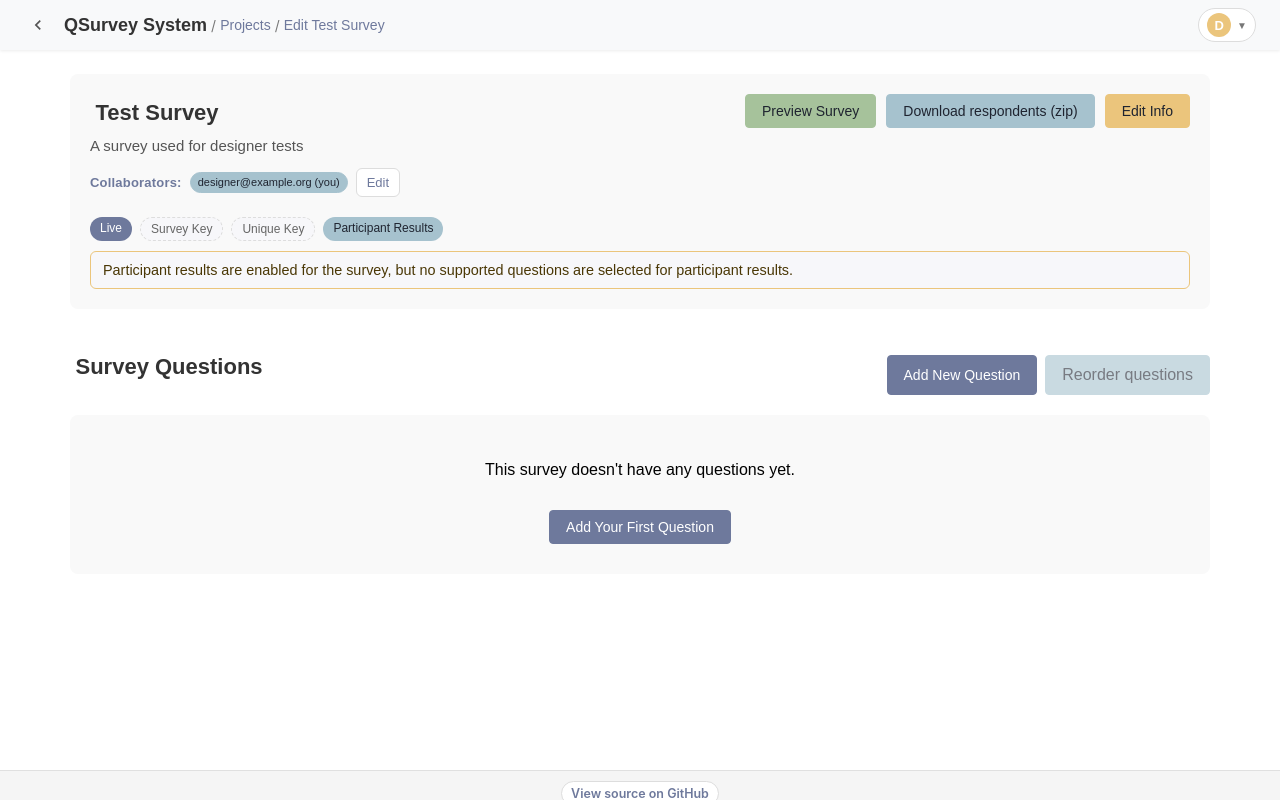
Test case: SurveyEdit designer workflows › disables collaborator save while a save is in flight to prevent duplicate submissions
Expected: the text "Collaborators:" is shown, 90,175 -> 182,190
Click the button with aria-label "edit collaborators".
click(378, 182)  # box 356,168 -> 400,197
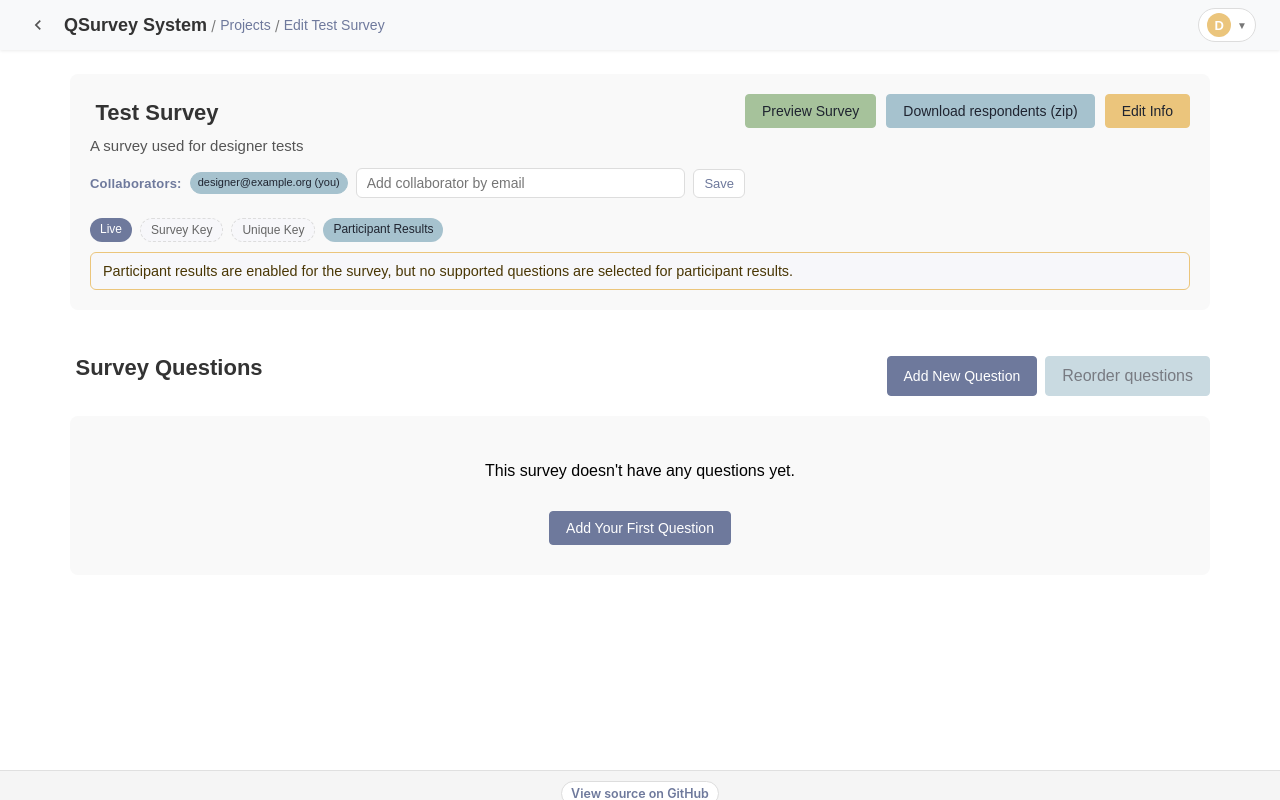
Expected: the button with aria-label "edit collaborators" reads "Save"
Click the button with aria-label "edit collaborators".
click(719, 183)  # box 693,168 -> 745,198
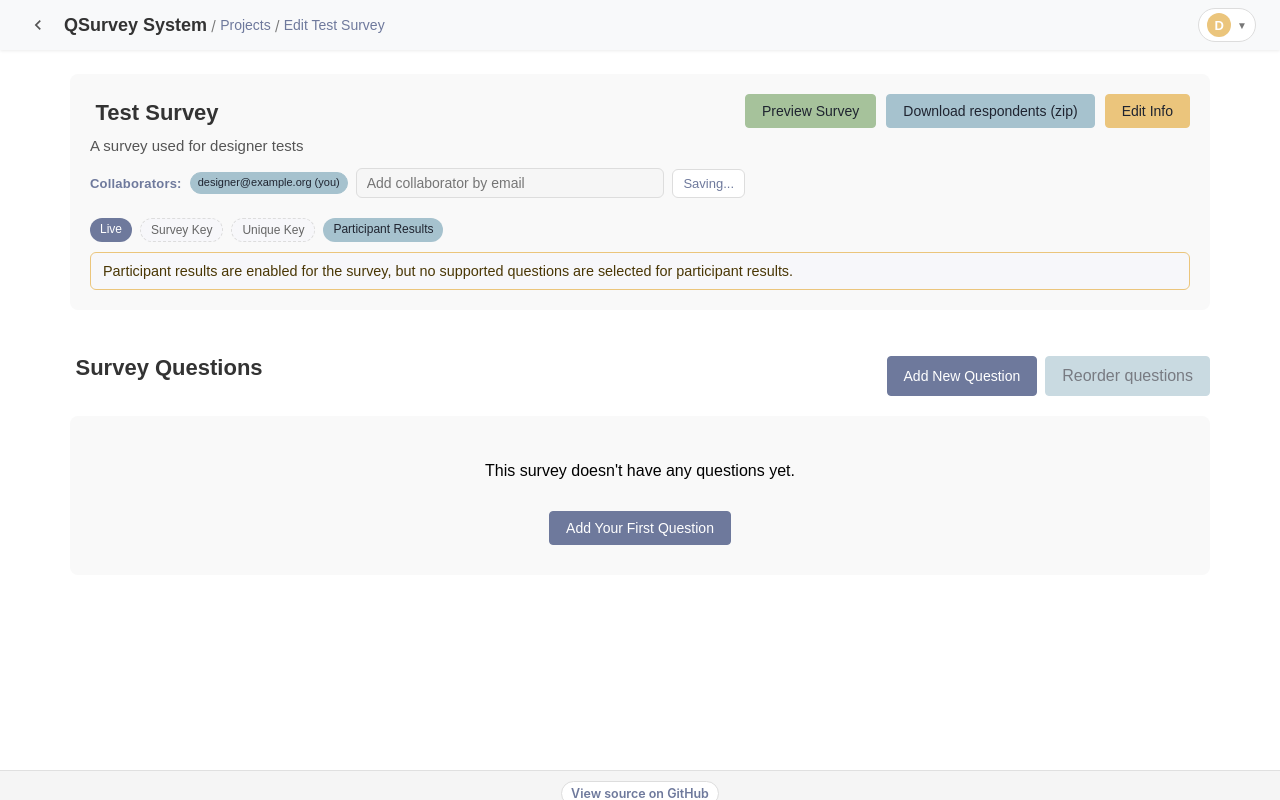
Expected: the button with aria-label "edit collaborators" is disabled
Note: Attempt a second click while saving should not trigger another request
Click the button with aria-label "edit collaborators".
click(709, 183)  # box 672,168 -> 745,198
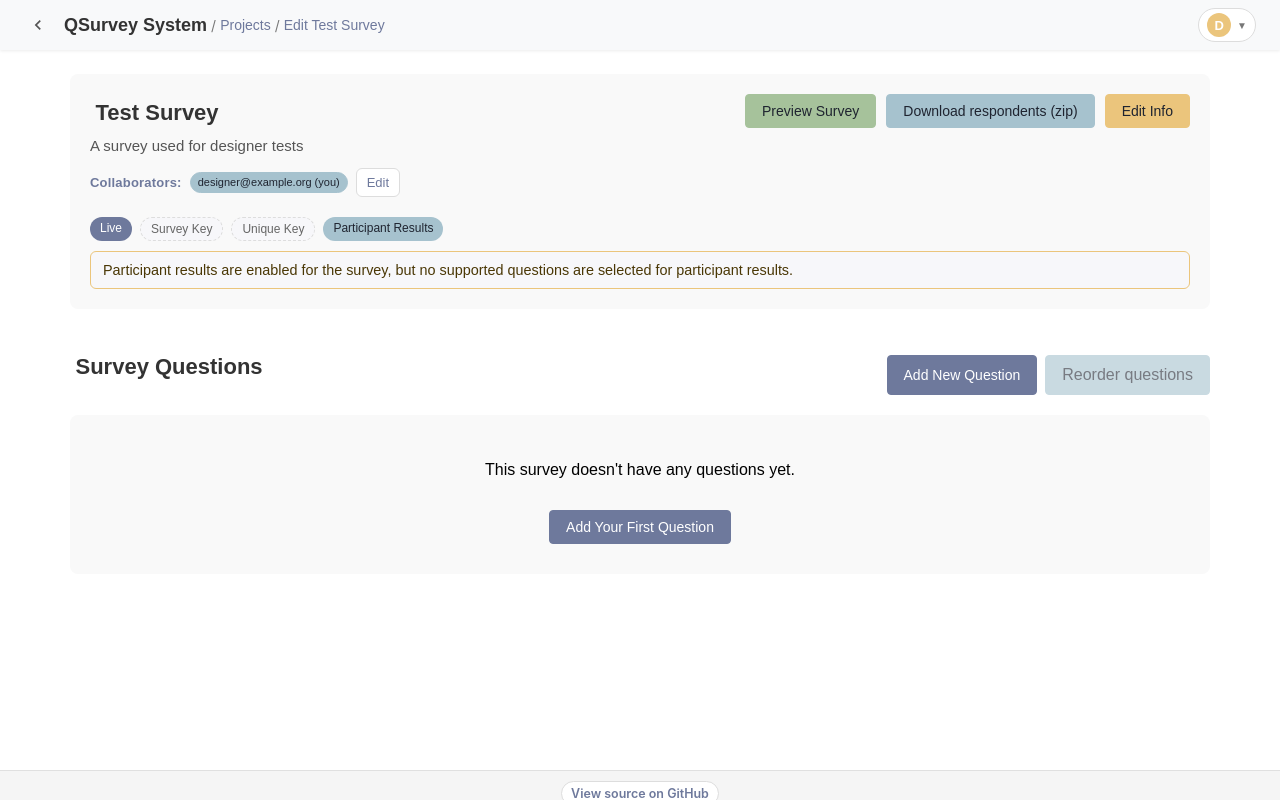
Expected: the button with aria-label "edit collaborators" is enabled, 356,168 -> 400,197
